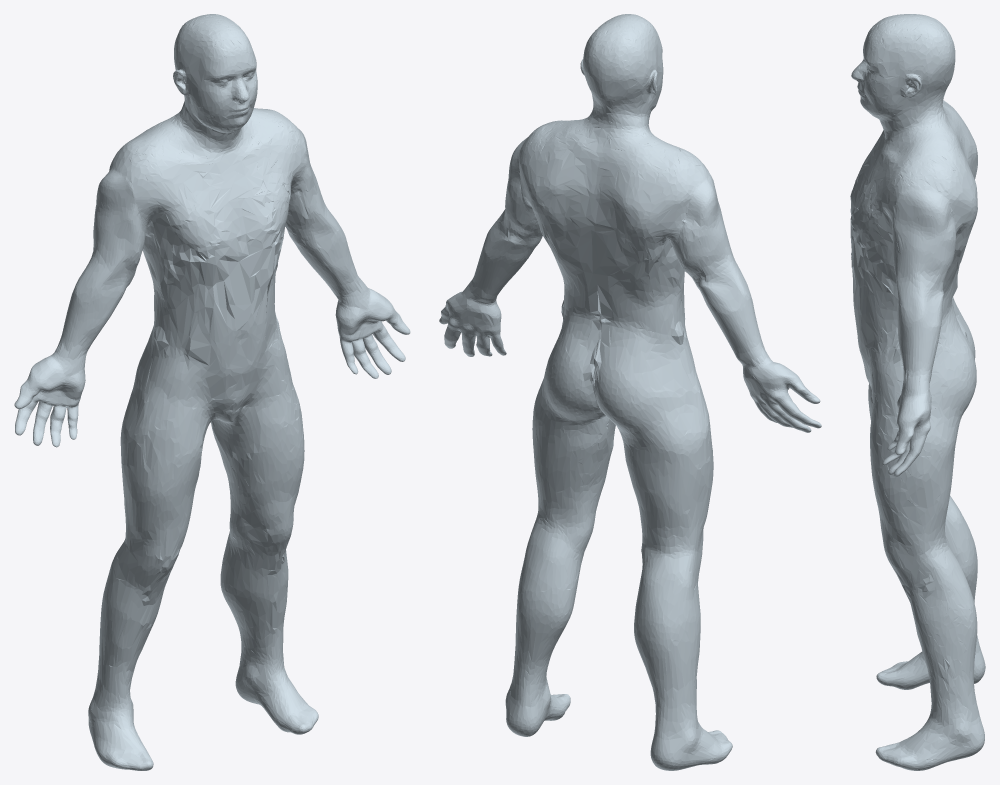
The model's file is body.glb.
The picture shows the model from 3 angles, left to right: view 1: azimuth 30°, elevation 25°; view 2: azimuth 150°, elevation 25°; view 3: azimuth 270°, elevation 25°; orthographic projection. The views are drawn at different scales.
Parts seen in each view (by area): view 1: VH_M_skin; view 2: VH_M_skin; view 3: VH_M_skin.
Boxes of the visible parts, left/top/right/bottom form: VH_M_skin: left=14, top=14, right=410, bottom=770; VH_M_skin: left=439, top=14, right=821, bottom=770; VH_M_skin: left=850, top=14, right=985, bottom=770.
Size of the model in its own units: 1.01 by 1.8 by 0.3103.
